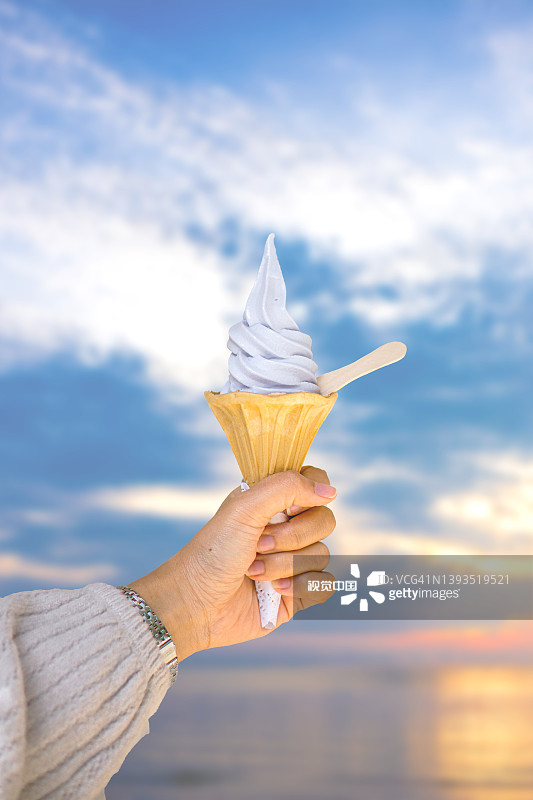no-phone: (152, 437, 354, 661)
